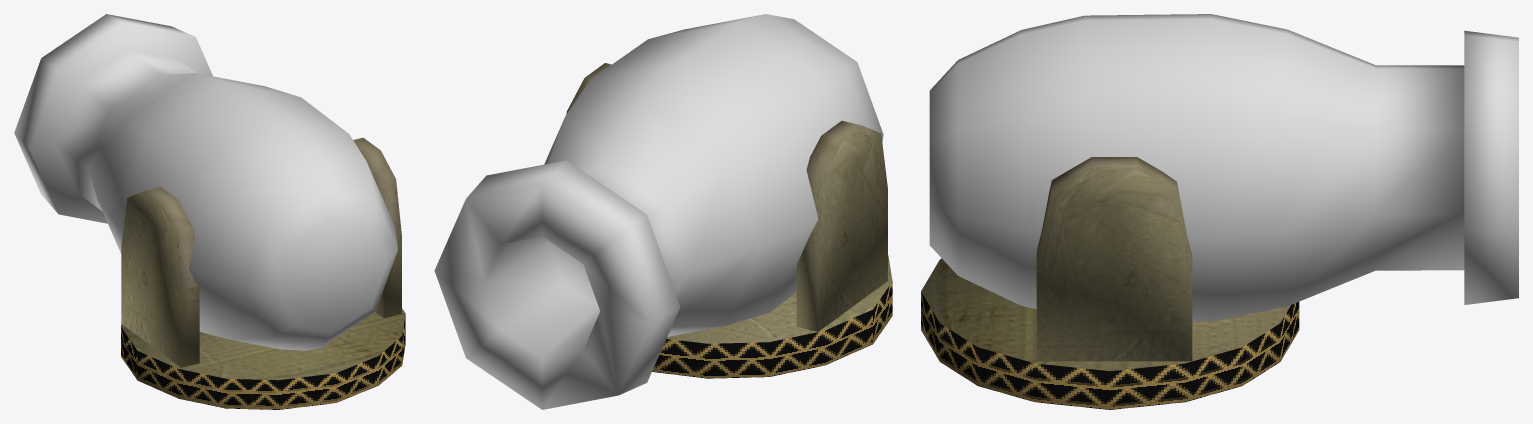
Rendered from CannonTowerHighRes.glb.
3 views of the same model, side by side, from view 1: azimuth 30°, elevation 25°; view 2: azimuth 150°, elevation 25°; view 3: azimuth 270°, elevation 25° (orthographic). The views are drawn at different scales.
Visible parts, largest first — view 1: Cylinder.002, Cylinder.003, Cube.001; view 2: Cylinder.002, Cube.001, Cylinder.003; view 3: Cylinder.002, Cube.001, Cylinder.003.
Boxes of the visible parts, bbox=[...] form: Cylinder.002: bbox=[14, 14, 397, 350]; Cylinder.003: bbox=[121, 308, 405, 409]; Cube.001: bbox=[121, 137, 401, 367]; Cylinder.002: bbox=[434, 14, 883, 409]; Cube.001: bbox=[566, 63, 887, 331]; Cylinder.003: bbox=[652, 255, 892, 378]; Cylinder.002: bbox=[929, 14, 1518, 321]; Cube.001: bbox=[1036, 157, 1192, 361]; Cylinder.003: bbox=[921, 258, 1299, 409].
Size of the model in its own units: 0.7072 by 0.6407 by 1.12.
2 materials, 2 textured.
